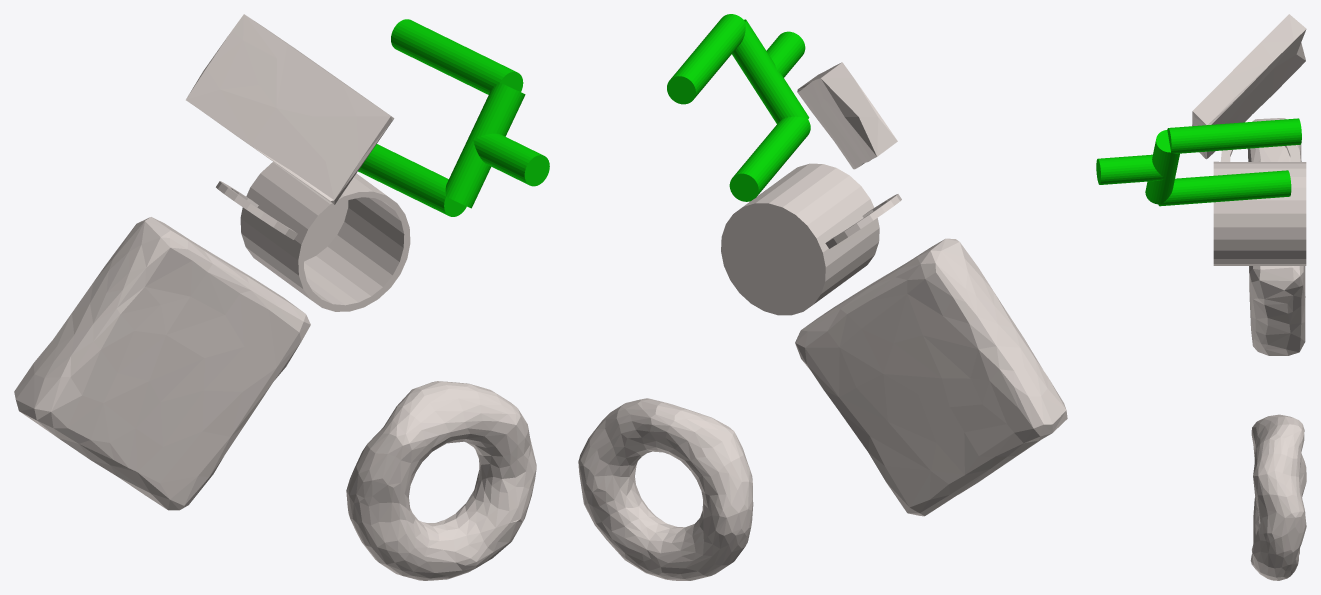
The model's file is round_000_trial_001.obj.
3 renders of one model, left to right at view 1: azimuth 30°, elevation 25°; view 2: azimuth 150°, elevation 25°; view 3: azimuth 270°, elevation 25°, orthographic. The views are drawn at different scales.
Visible parts, largest first — view 1: geometry_0, geometry_1; view 2: geometry_0, geometry_1; view 3: geometry_0, geometry_1.
Part boxes in pixels (x1,y1,x2,y2): geometry_0: (14, 14, 536, 580); geometry_1: (358, 19, 549, 216); geometry_0: (578, 62, 1067, 580); geometry_1: (667, 14, 810, 201); geometry_0: (1192, 14, 1306, 580); geometry_1: (1096, 118, 1301, 206).
Size of the model in its own units: 0.1777 by 0.2014 by 0.0794.
